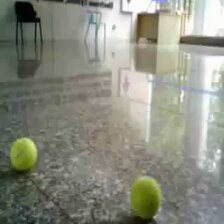tennis: (130, 175, 160, 218), (9, 137, 38, 169)
